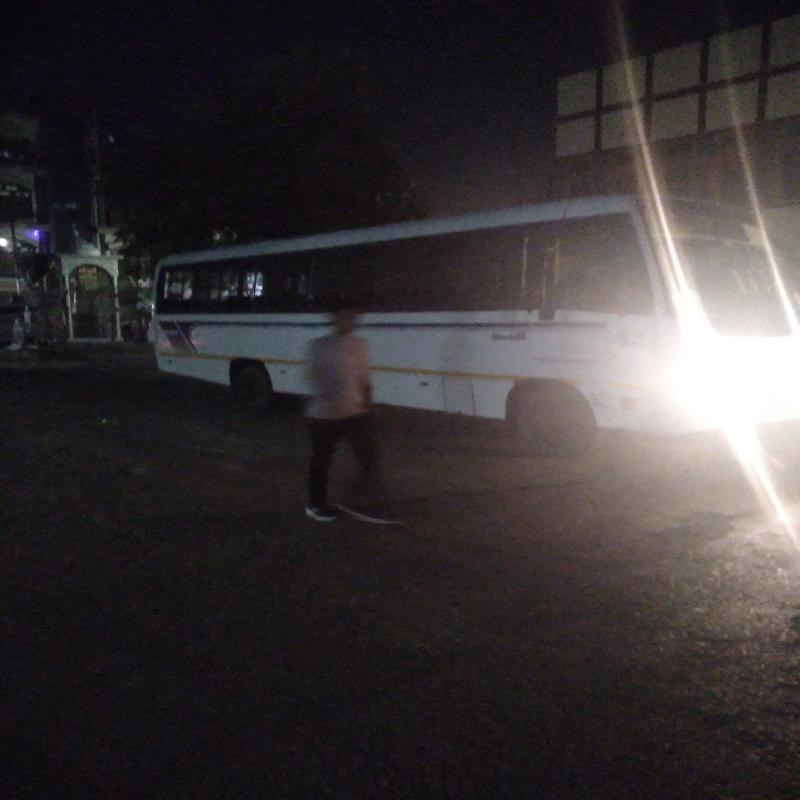bus: (151, 237, 722, 432)
